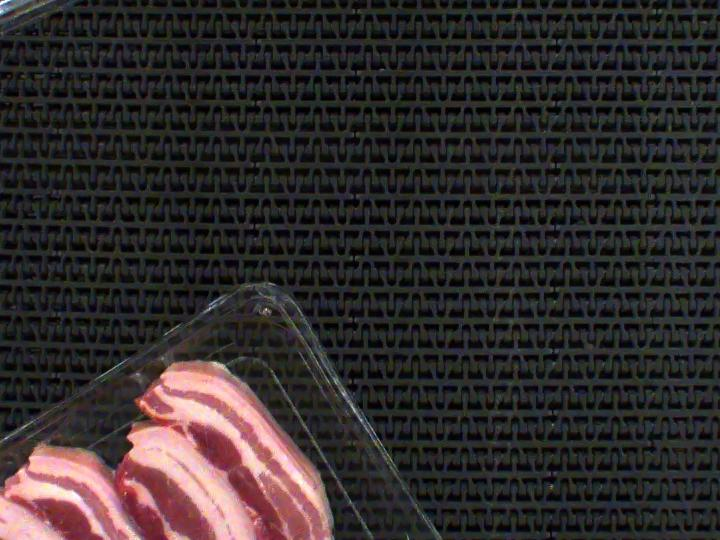packaging-error: (129, 346, 173, 387)
